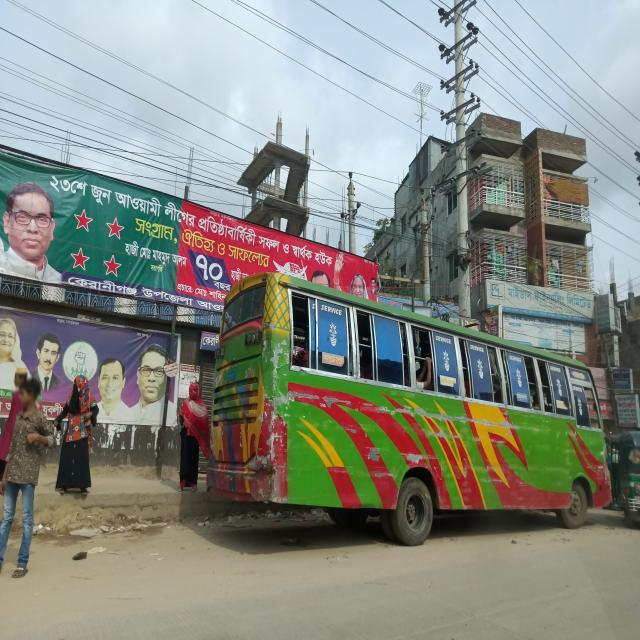bus: (208, 272, 611, 546)
